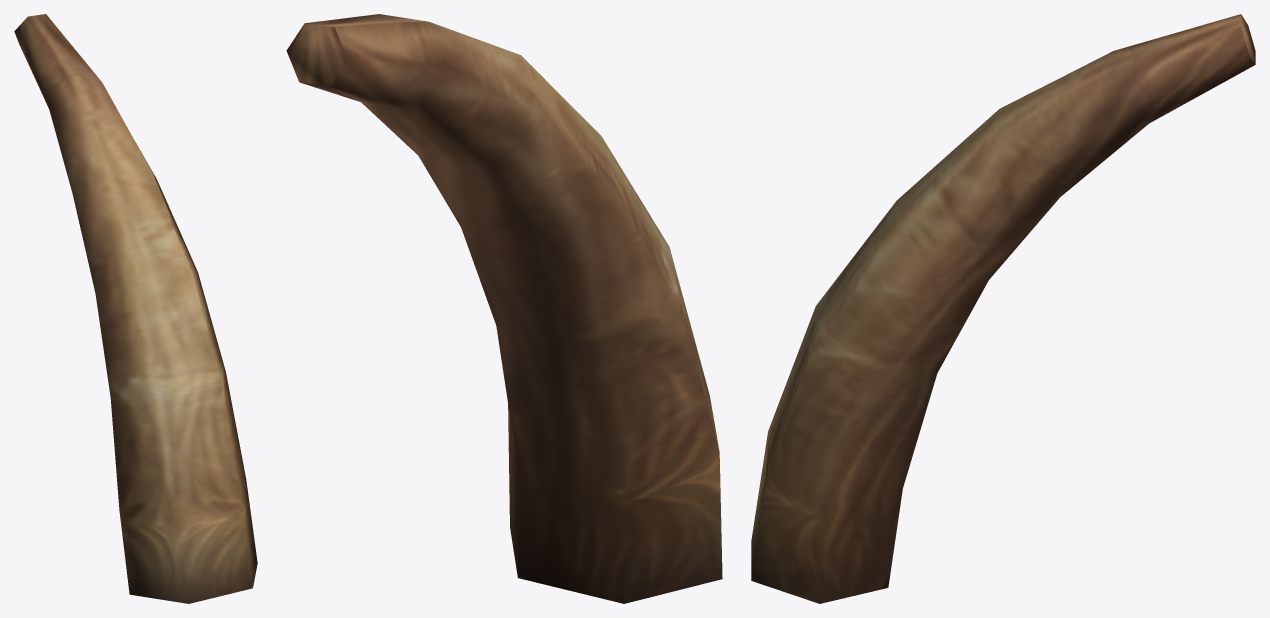
Rendered from D_zhangai005.fbx.
The picture shows the model from 3 angles, left to right: view 1: azimuth 30°, elevation 25°; view 2: azimuth 150°, elevation 25°; view 3: azimuth 270°, elevation 25°; orthographic projection. The views are drawn at different scales.
Visible parts, largest first — view 1: D_zhangai005; view 2: D_zhangai005; view 3: D_zhangai005.
Part boxes in pixels (x1,y1,x2,y2): D_zhangai005: [14, 14, 257, 603]; D_zhangai005: [286, 14, 722, 603]; D_zhangai005: [751, 14, 1255, 603].
Bounding box in the file's own units: 40.94 × 131 × 108.
